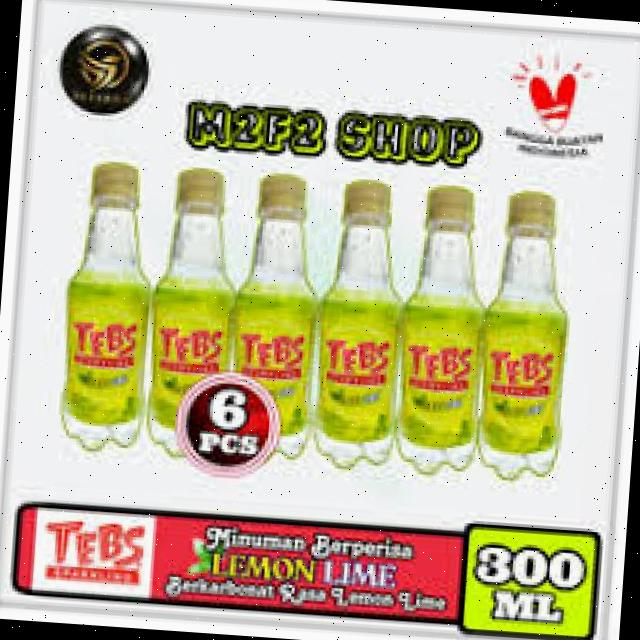bottle: (291, 177, 428, 470), (39, 156, 168, 450), (463, 184, 587, 482), (384, 176, 501, 485), (157, 152, 266, 448), (224, 163, 330, 458)
cap: (82, 153, 148, 211), (175, 162, 230, 222), (254, 164, 317, 216), (337, 181, 402, 230), (430, 187, 484, 230), (507, 190, 561, 232)
